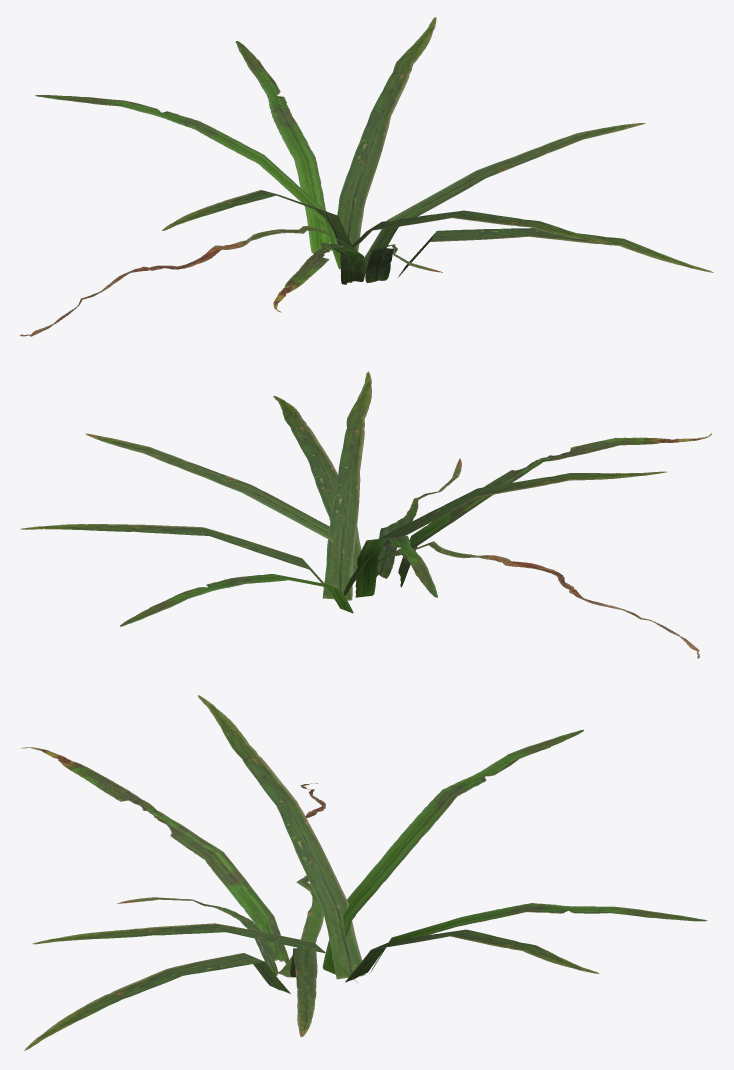
File: SM_Grass05.fbx
3 renders of one model, top to bottom at view 1: azimuth 30°, elevation 25°; view 2: azimuth 150°, elevation 25°; view 3: azimuth 270°, elevation 25°, orthographic. The views are drawn at different scales.
Visible parts, largest first — view 1: SM_Grass05_LOD0; view 2: SM_Grass05_LOD0; view 3: SM_Grass05_LOD0.
Part boxes in pixels (x1=…): SM_Grass05_LOD0: x1=20, y1=17, x2=713, y2=336; SM_Grass05_LOD0: x1=20, y1=371, x2=711, y2=658; SM_Grass05_LOD0: x1=21, y1=695, x2=707, y2=1050.
Size of the model in its own units: 61.38 by 55.35 by 13.
Materials: 1 (1 with a texture image).
